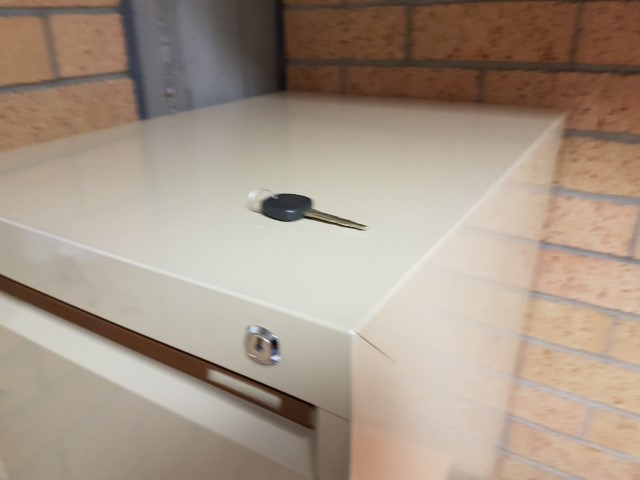key: (263, 193, 367, 232)
